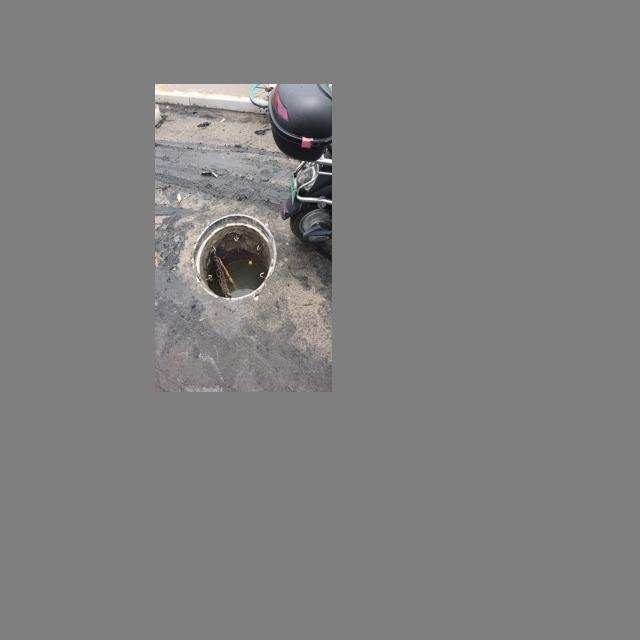lose: (187, 210, 278, 300)
